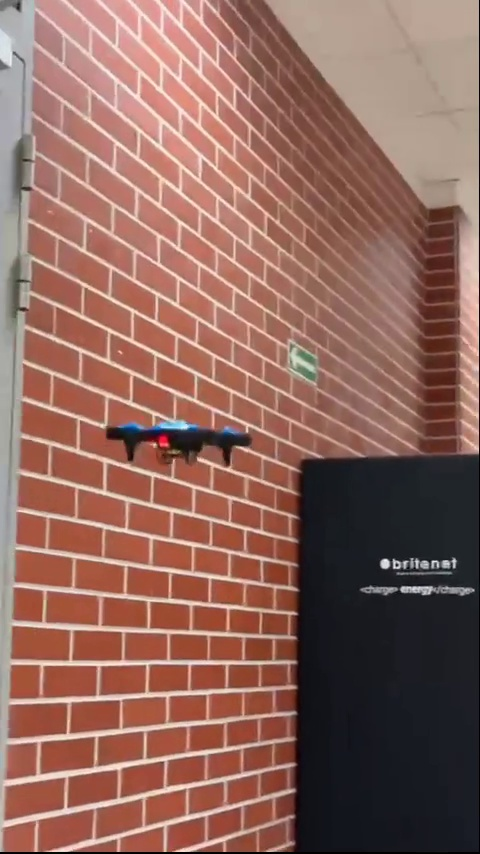drone: (114, 416, 249, 467)
